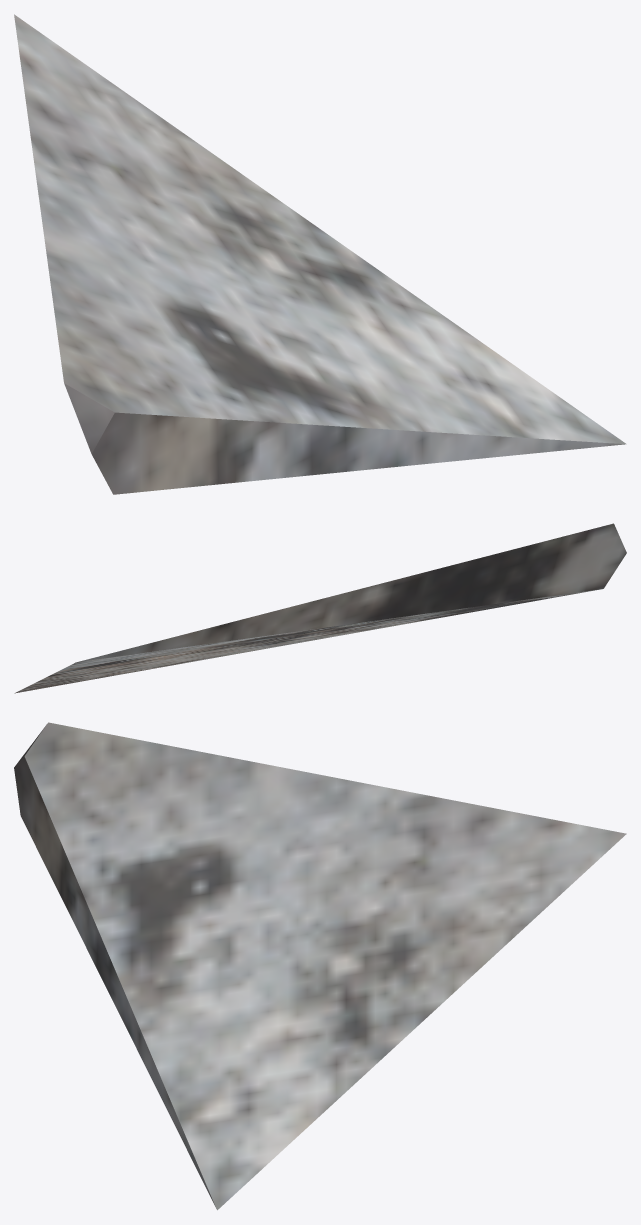
File: Asteroid_Large_001_02_007_03_006.fbx
3 renders of one model, top to bottom at view 1: azimuth 30°, elevation 25°; view 2: azimuth 150°, elevation 25°; view 3: azimuth 270°, elevation 25°, orthographic. The views are drawn at different scales.
Visible parts, largest first — view 1: Asteroid_Large_001_02_007_03_006; view 2: Asteroid_Large_001_02_007_03_006; view 3: Asteroid_Large_001_02_007_03_006.
Part boxes in pixels (bbox=[...]): Asteroid_Large_001_02_007_03_006: bbox=[14, 14, 626, 494]; Asteroid_Large_001_02_007_03_006: bbox=[14, 523, 626, 693]; Asteroid_Large_001_02_007_03_006: bbox=[14, 722, 626, 1210].
Size of the model in its own units: 2.91 by 1.32 by 2.98.
